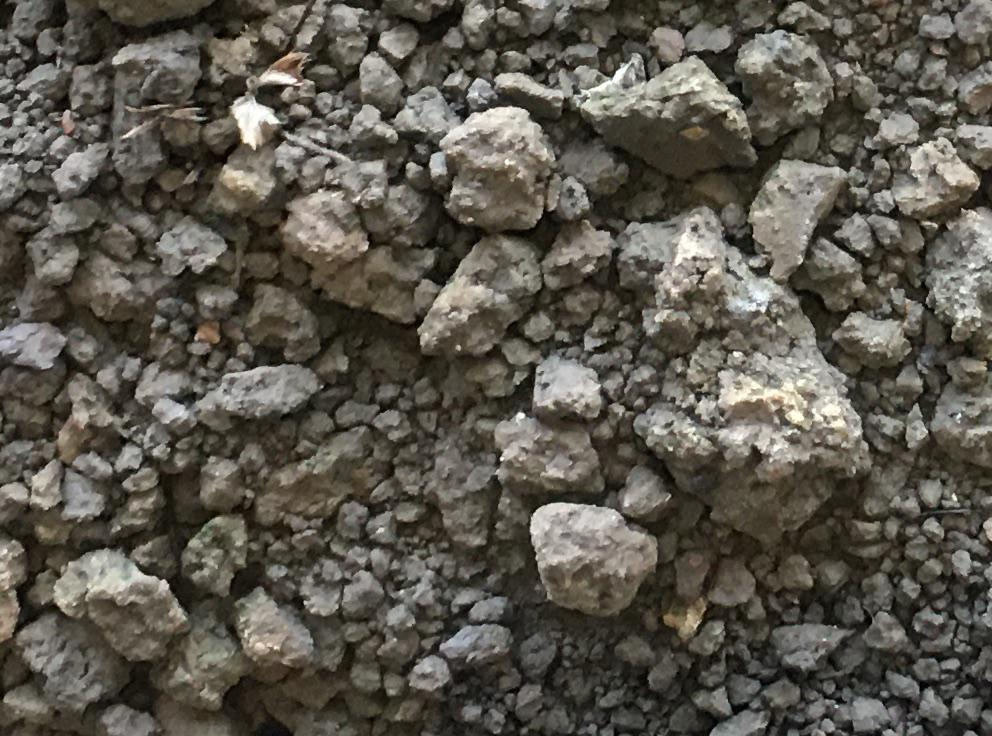block: (659, 269, 860, 537), (585, 59, 758, 178), (527, 496, 650, 619), (54, 547, 185, 662), (419, 238, 539, 355), (443, 109, 558, 228)
